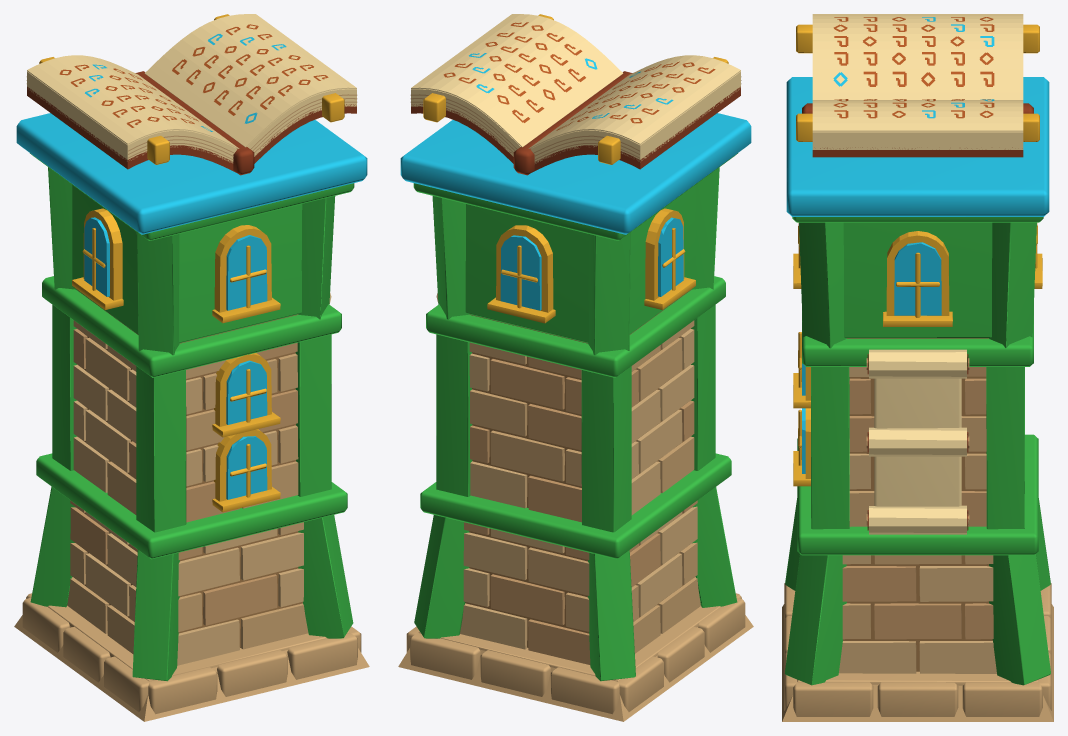
Rendered from torre-letras-concept-v04.glb.
3 views of the same model, side by side, from view 1: azimuth 30°, elevation 25°; view 2: azimuth 150°, elevation 25°; view 3: azimuth 270°, elevation 25° (orthographic). The views are drawn at different scales.
Visible parts, largest first — view 1: Arquitetura_Fechada, Pagina_Direita_Malha, Livro_Malha, Pagina_Esquerda_Malha; view 2: Arquitetura_Fechada, Pagina_Direita_Malha, Livro_Malha, Pagina_Esquerda_Malha; view 3: Arquitetura_Fechada, Pagina_Esquerda_Malha, Livro_Malha, Pagina_Direita_Malha.
Part boxes in pixels (bbox=[...]): Arquitetura_Fechada: bbox=[14, 113, 369, 721]; Pagina_Direita_Malha: bbox=[144, 14, 356, 147]; Livro_Malha: bbox=[26, 14, 357, 175]; Pagina_Esquerda_Malha: bbox=[27, 55, 239, 148]; Arquitetura_Fechada: bbox=[398, 113, 753, 721]; Pagina_Direita_Malha: bbox=[411, 14, 623, 147]; Livro_Malha: bbox=[410, 14, 741, 175]; Pagina_Esquerda_Malha: bbox=[528, 55, 740, 148]; Arquitetura_Fechada: bbox=[782, 77, 1053, 721]; Pagina_Esquerda_Malha: bbox=[812, 14, 1023, 99]; Livro_Malha: bbox=[796, 24, 1039, 157]; Pagina_Direita_Malha: bbox=[812, 99, 1023, 131].
Size of the model in its own units: 2.11 by 5 by 2.06.
Materials: 1 (1 with a texture image).
